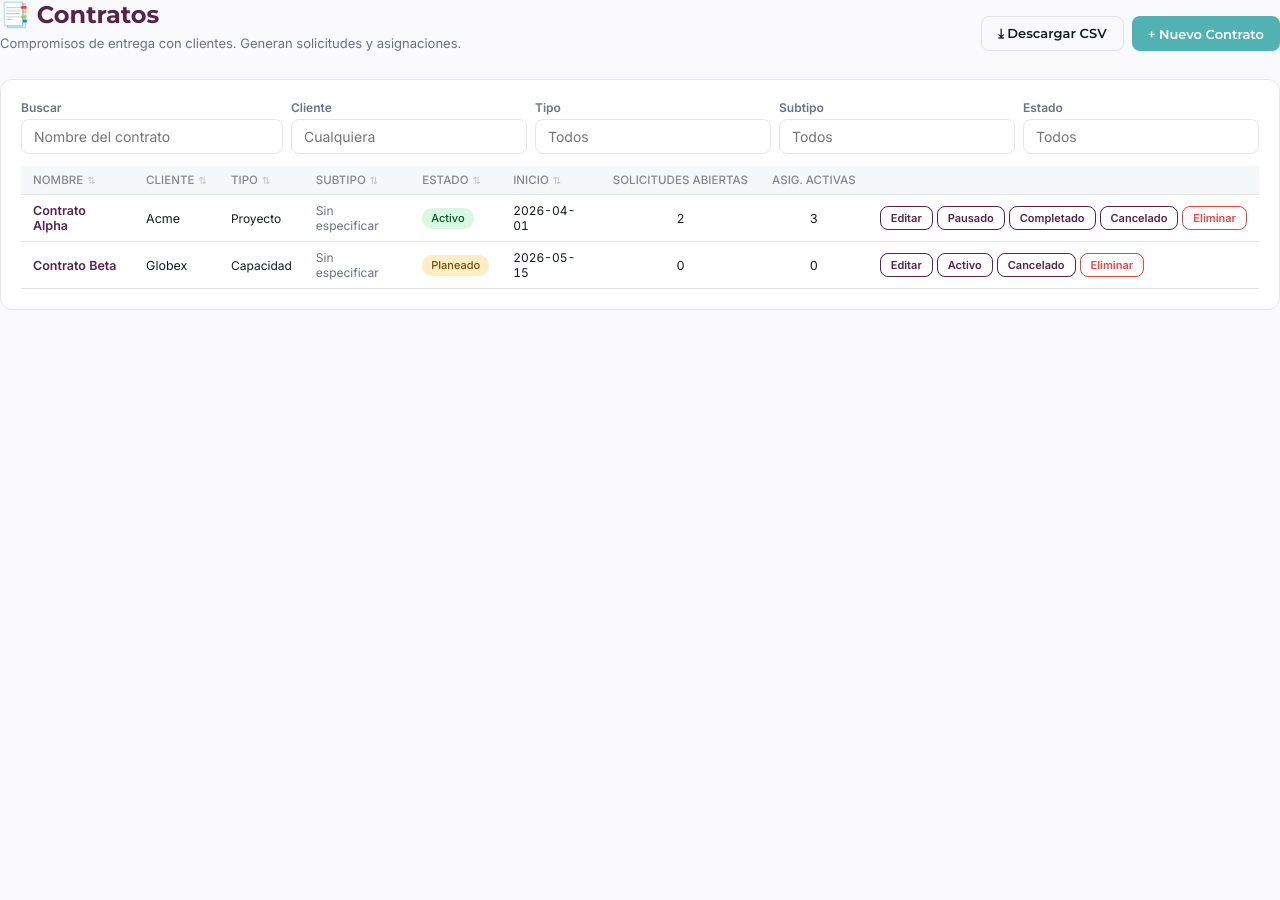
Test case: Contracts module › SPEC subtipo-contrato (Abril 2026) › al elegir Reventa, el dropdown Subtipo muestra opciones de resell
Check: the link "Contrato Alpha" is shown, box [33, 203, 86, 233]
Click the button "+ Nuevo Contrato". click: (1206, 34)
box: [1132, 16, 1279, 51]
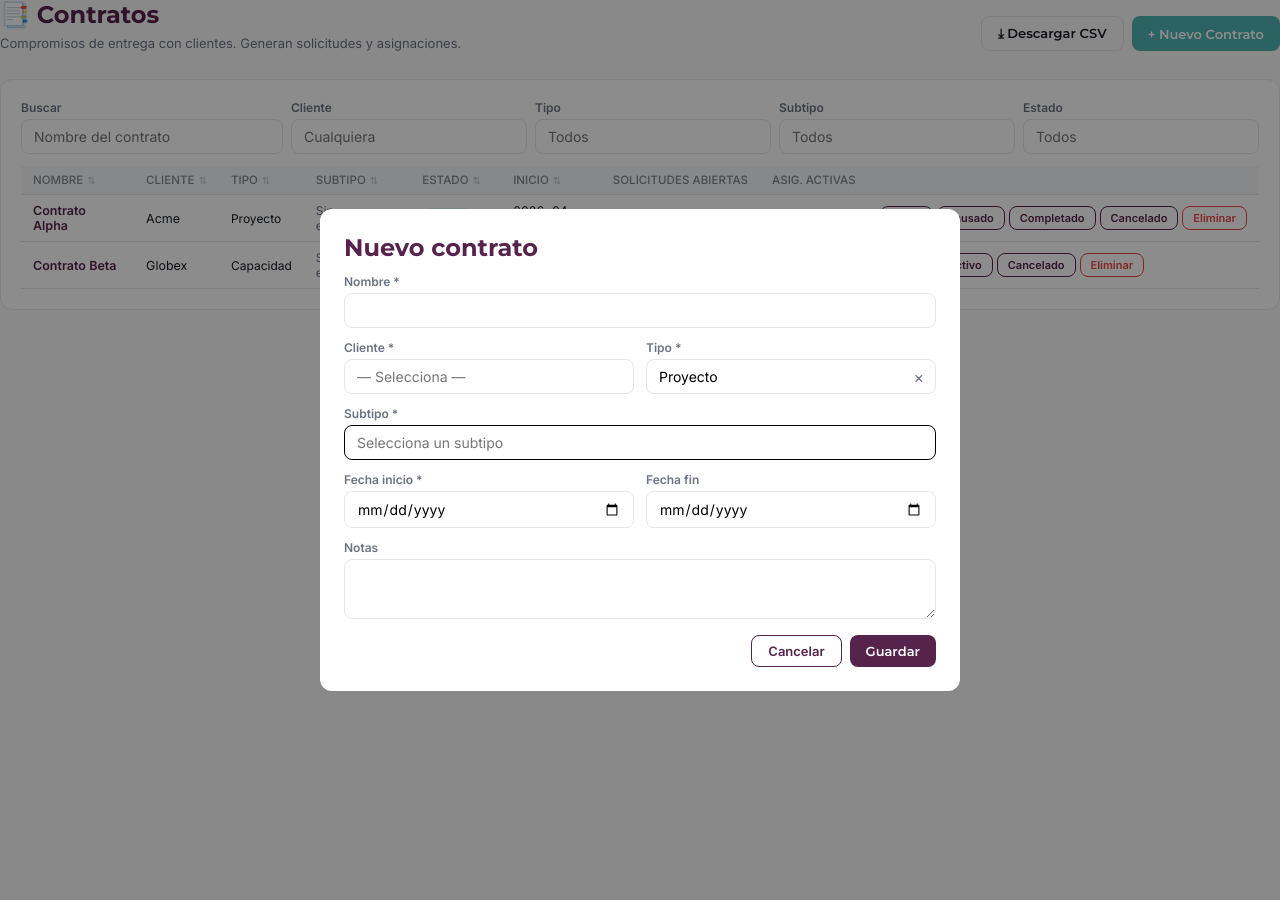
Click the dropdown named "Tipo". click: (791, 376)
box: [646, 359, 936, 394]
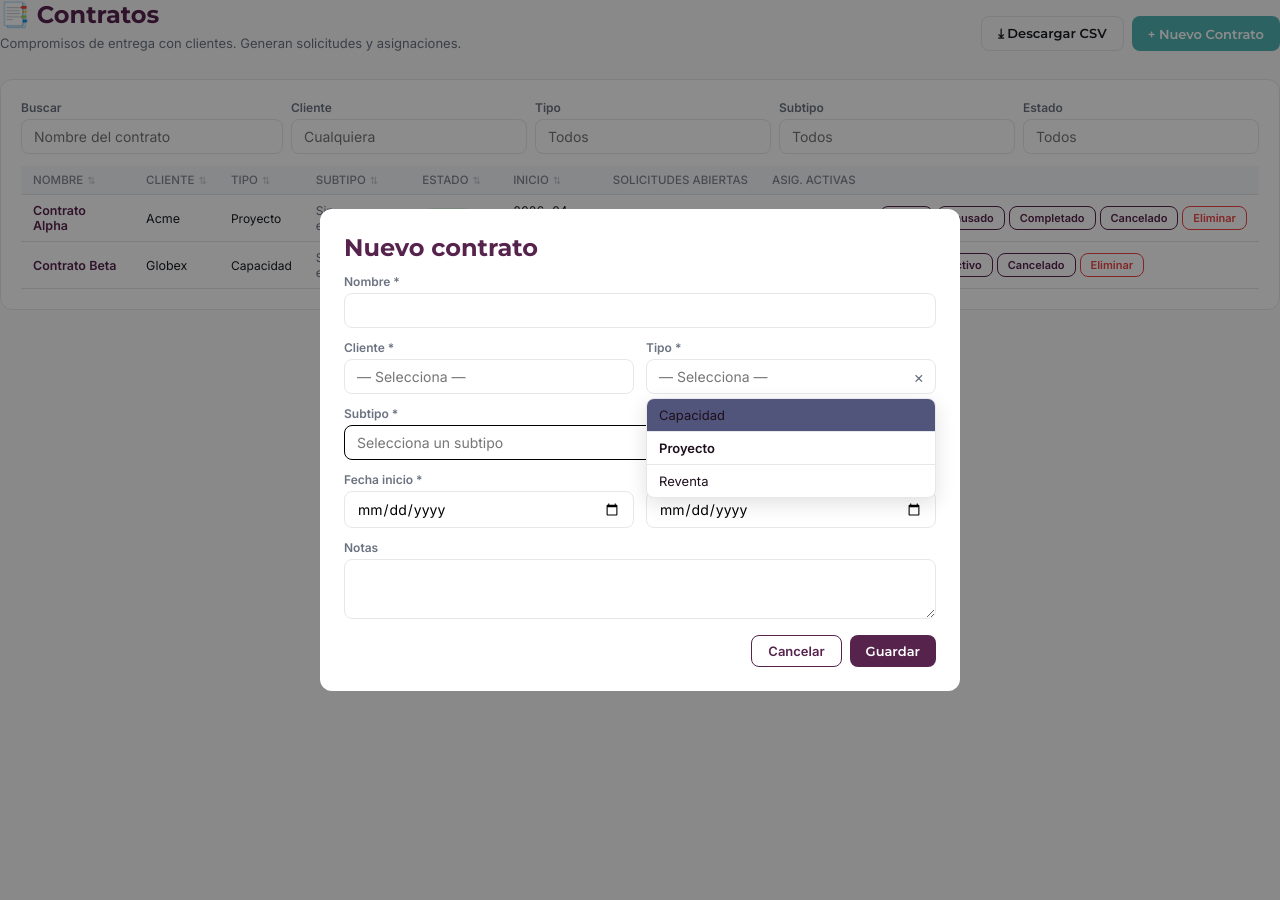
Press the mouse on the option "Reventa" at (684, 481), box [647, 464, 935, 497]
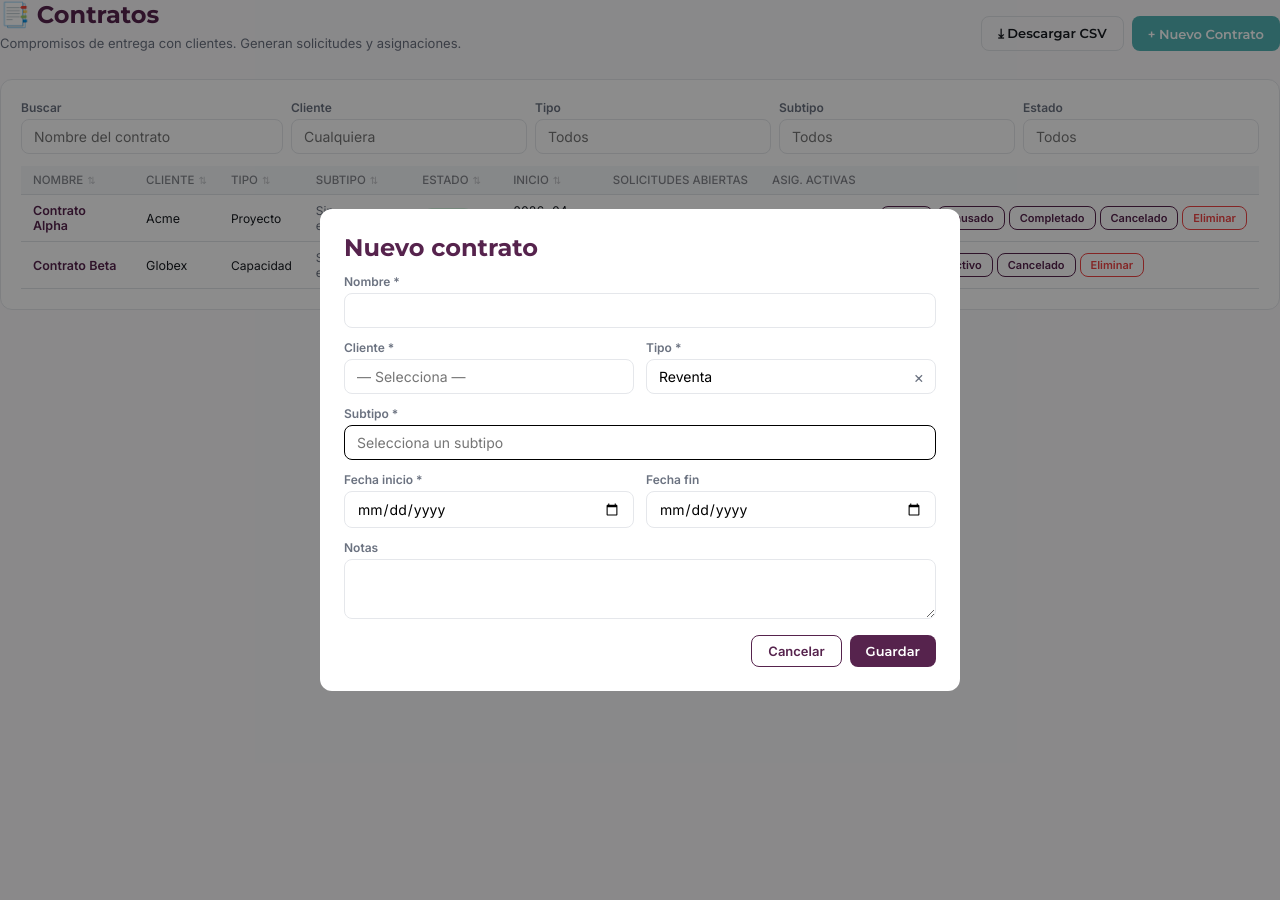
Click the dropdown labelled "subtipo". click: (640, 442)
box: [344, 425, 936, 460]
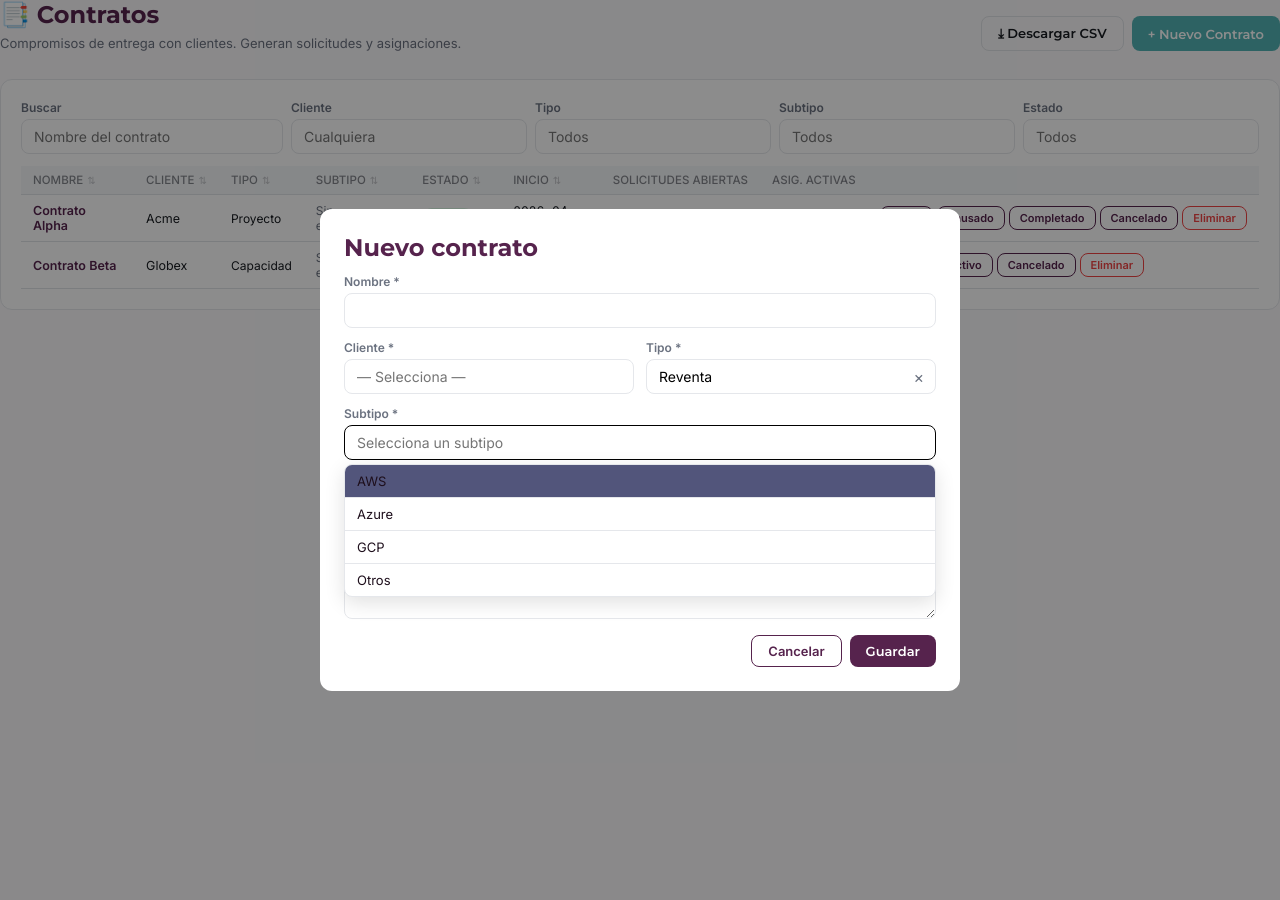
Check: the list is shown, box [344, 464, 936, 597]
Check: the list shows "AWS", box [357, 473, 386, 489]
Check: the list shows "Azure", box [357, 506, 393, 522]
